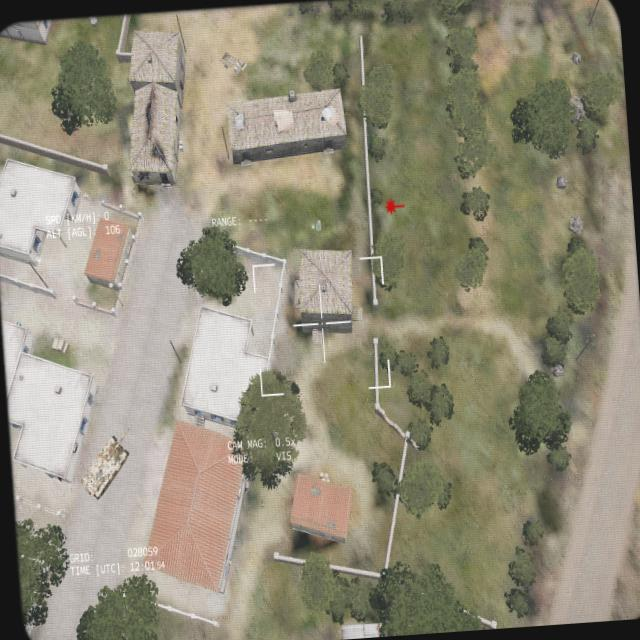tank: (74, 421, 140, 502)
